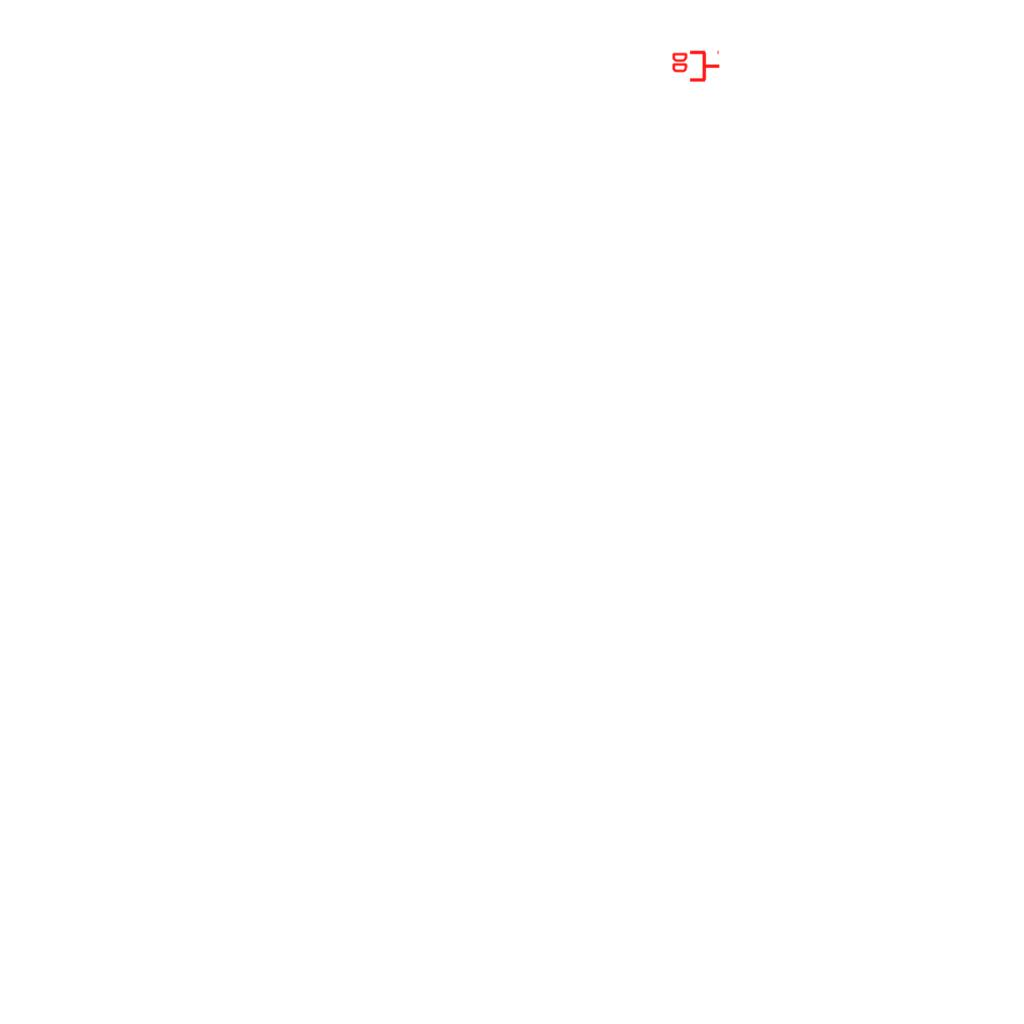Datenanschluss_zweifach: (670, 50, 721, 84)
